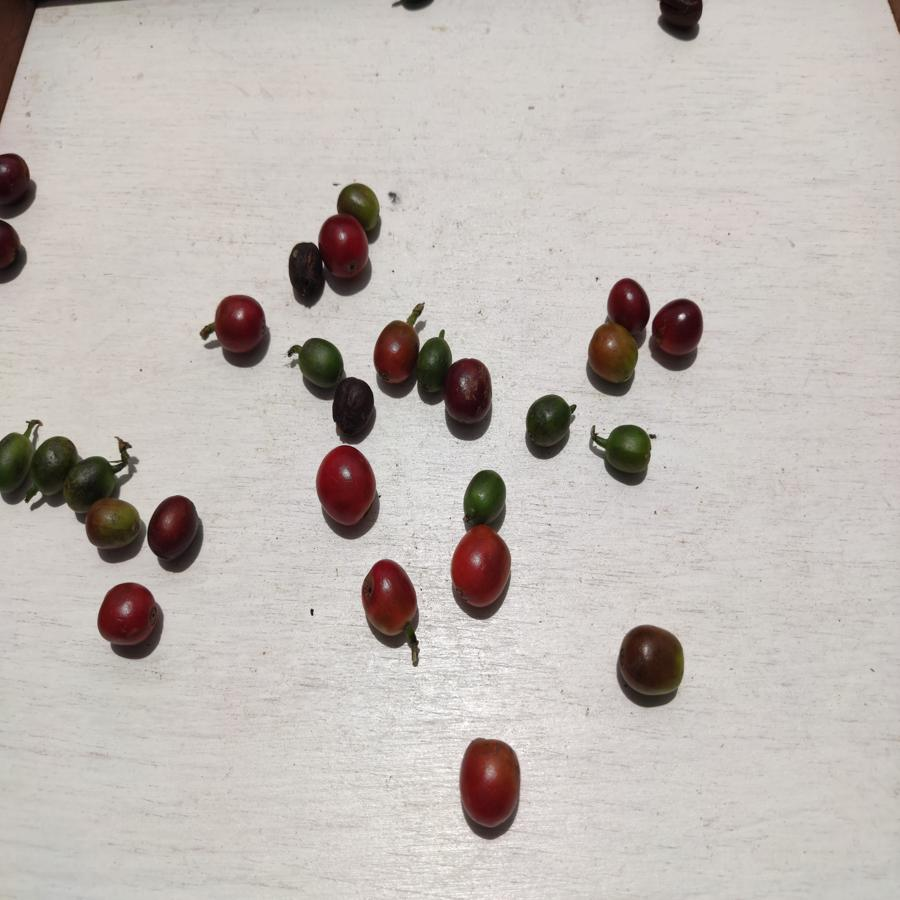Inmaduro: (30, 436, 82, 496), (601, 422, 655, 476), (523, 393, 575, 448), (460, 470, 510, 522), (295, 336, 343, 386), (415, 336, 453, 397), (65, 458, 120, 499), (1, 431, 32, 496)
Maduro: (456, 737, 520, 834), (450, 525, 514, 611), (314, 446, 376, 527), (358, 557, 418, 638), (99, 581, 158, 651), (213, 296, 267, 358), (321, 216, 369, 280), (373, 320, 417, 384)
Pinton: (617, 624, 686, 699), (587, 322, 641, 385), (84, 496, 141, 553), (335, 183, 380, 218)
Sobremaduro: (147, 494, 203, 558), (446, 358, 499, 424), (651, 297, 703, 356), (286, 239, 329, 305), (604, 274, 650, 334), (332, 378, 373, 435), (658, 1, 705, 30)
